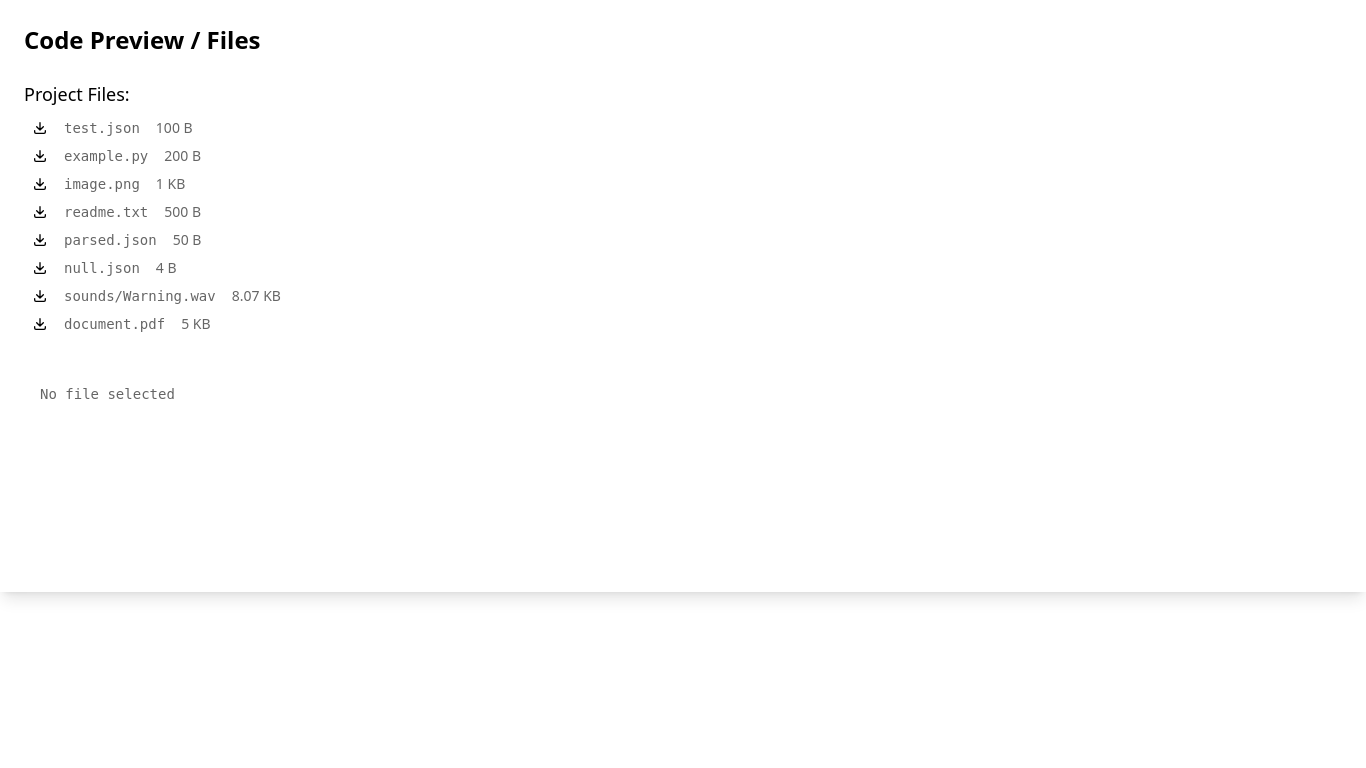
it: AppCodePreview › shows an audio player for WAV files
What coordinates should you click on to do the following:
click the button "sounds/Warning.wav"
I would click on:
 (140, 296)
Its box is [64,286,216,306].
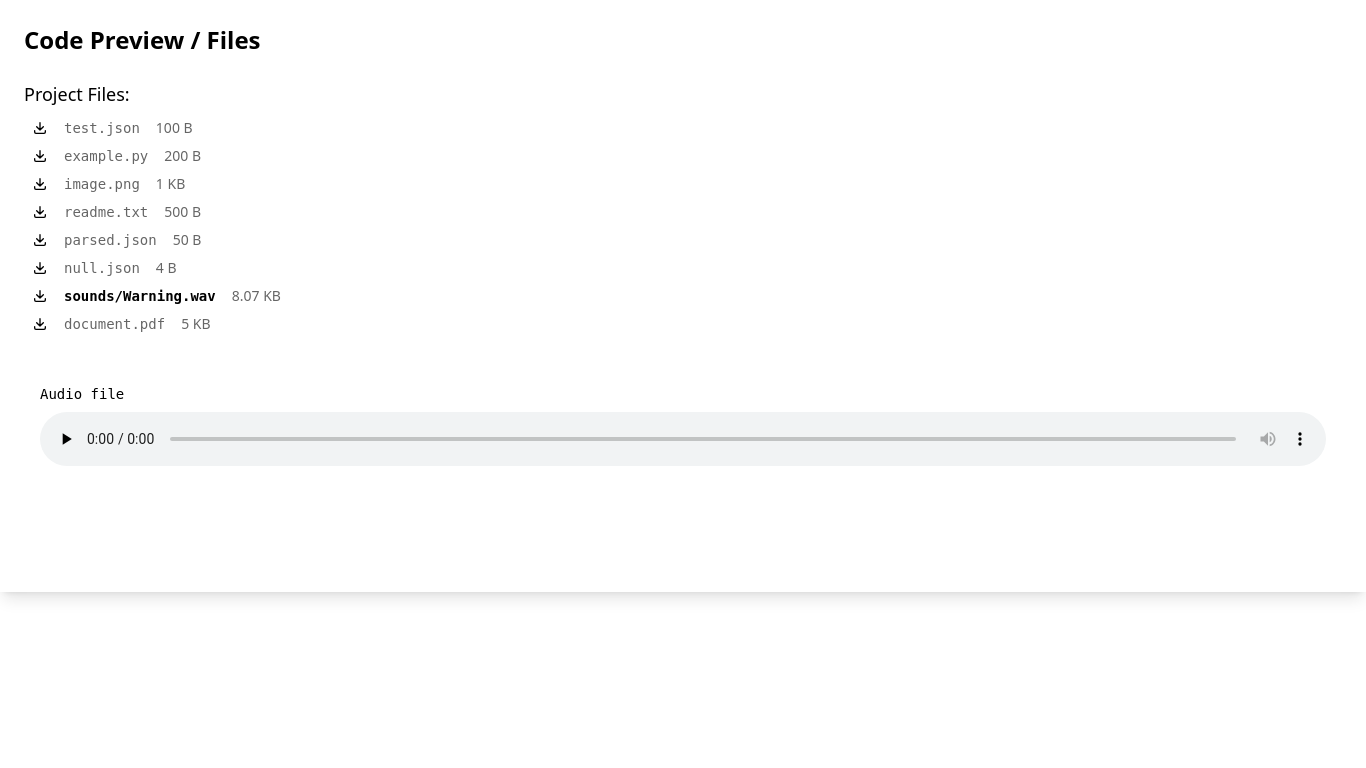
Result: the text "Audio file" is shown at [40,386,124,402]
